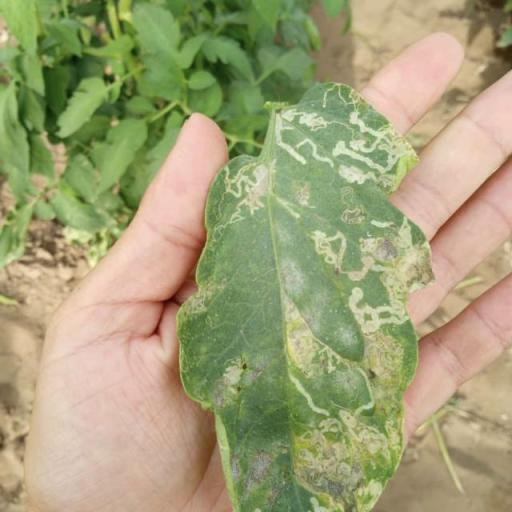Leaf Miner: (169, 82, 439, 512)
